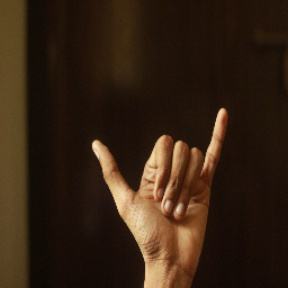J: (90, 90, 229, 258)
